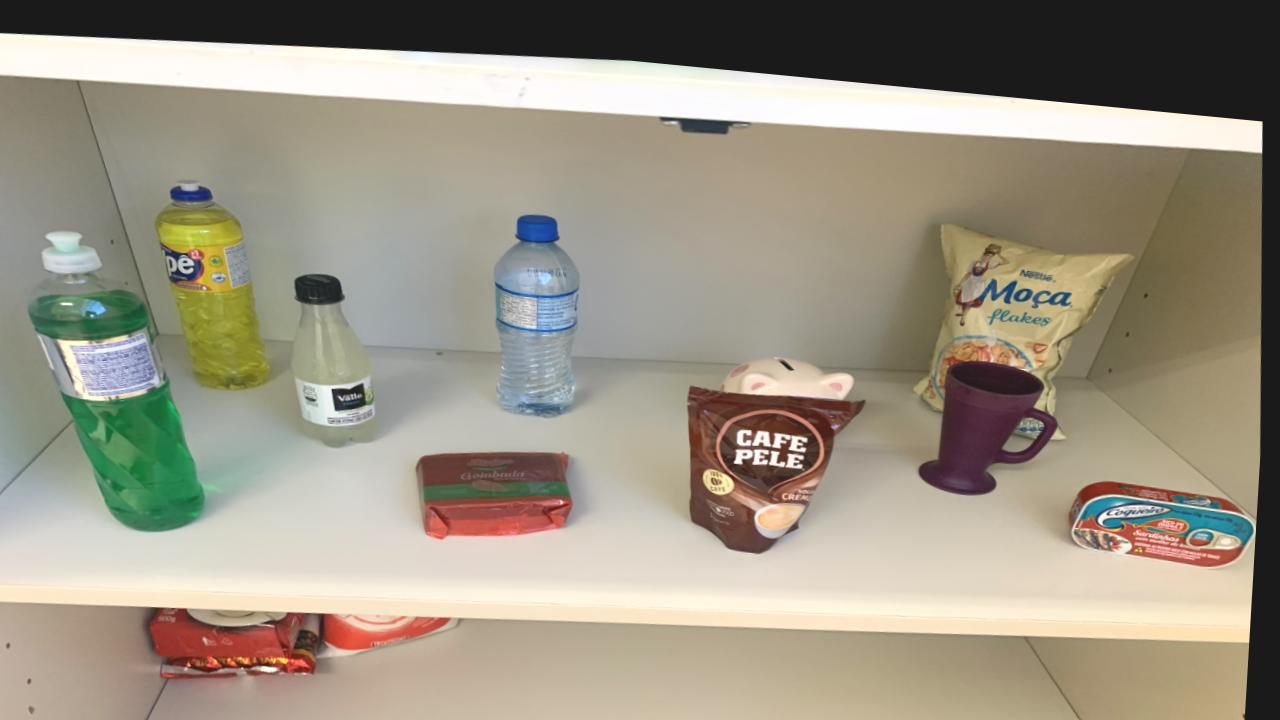Coffee-Pantry_Items: (691, 373, 868, 538)
Detergent-Cleanup_Items: (32, 230, 208, 528), (157, 176, 273, 385)
Flakes-Snacks: (918, 204, 1135, 390)
Guava-Snacks: (421, 440, 579, 529)
Pig_Safe-Miscellaneous: (723, 341, 856, 382)
Soda-Drinks: (295, 268, 381, 440)
Tuna_Can-Pantry_Items: (1074, 457, 1259, 543)
Water_Bottle-Drinks: (497, 203, 582, 405)
